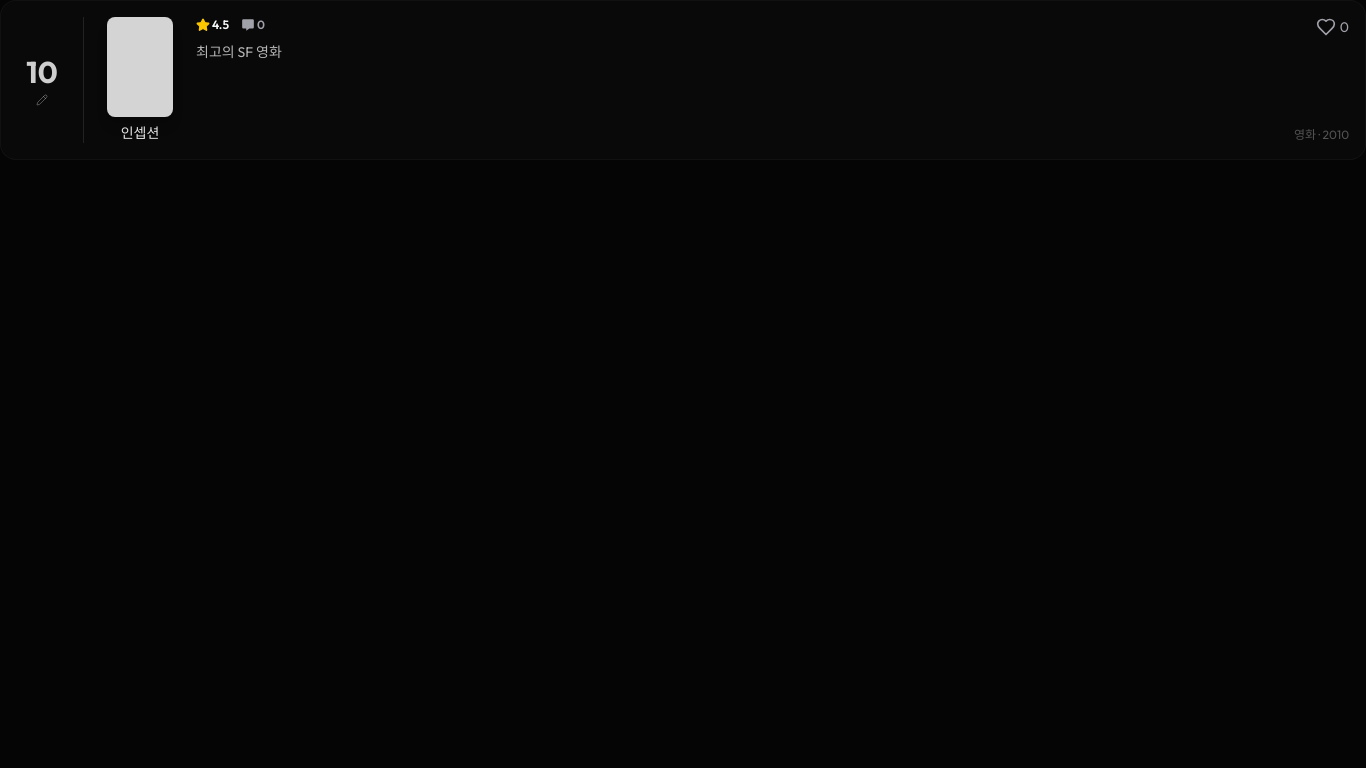
Test case: WatchlistCard › 리뷰가 있는 감상한 작품 › 댓글 버튼 클릭 시 댓글 모달을 열어야 한다
This screenshot has width=1366, height=768.
Click the button "0" next to "4.5". click: (253, 25)
box: x1=241 y1=17 x2=265 y2=33
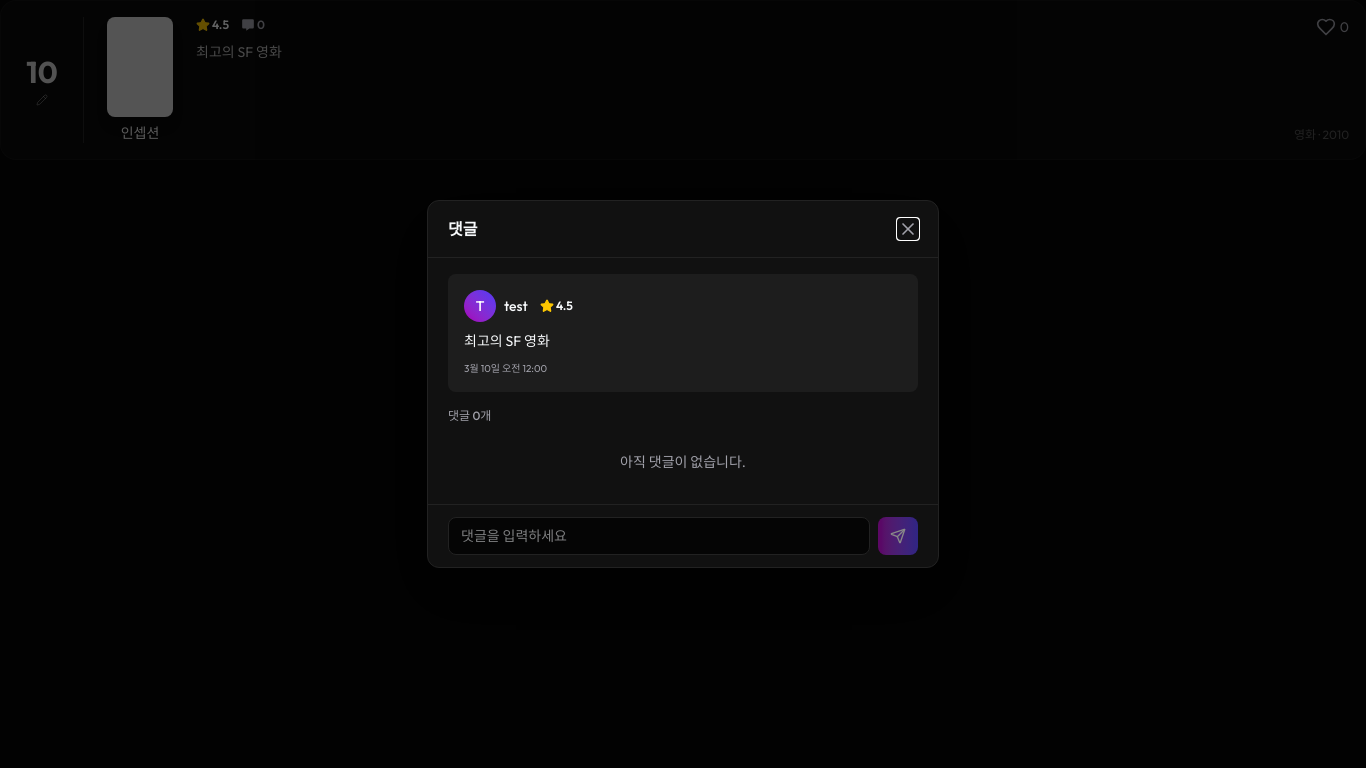
Expected: the heading "댓글" is shown, x1=448 y1=217 x2=478 y2=241
